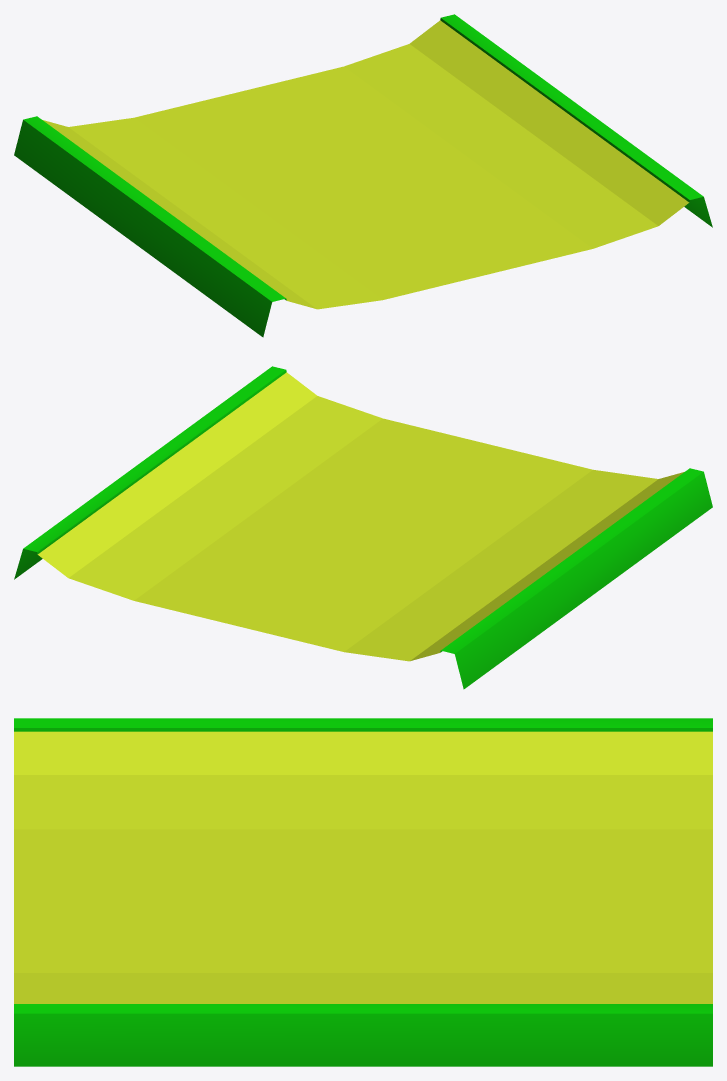
Rendered from sm_speed_platform_middle.fbx.
3 views of the same model, one above another, from view 1: azimuth 30°, elevation 25°; view 2: azimuth 150°, elevation 25°; view 3: azimuth 270°, elevation 25° (orthographic). The views are drawn at different scales.
Visible parts, largest first — view 1: sm_speed_platform_middle; view 2: sm_speed_platform_middle; view 3: sm_speed_platform_middle.
Boxes of the visible parts, bbox=[...] form: sm_speed_platform_middle: bbox=[14, 14, 712, 337]; sm_speed_platform_middle: bbox=[14, 366, 712, 689]; sm_speed_platform_middle: bbox=[14, 718, 712, 1066].
Bounding box in the file's own units: 14.79 × 208 × 200.
